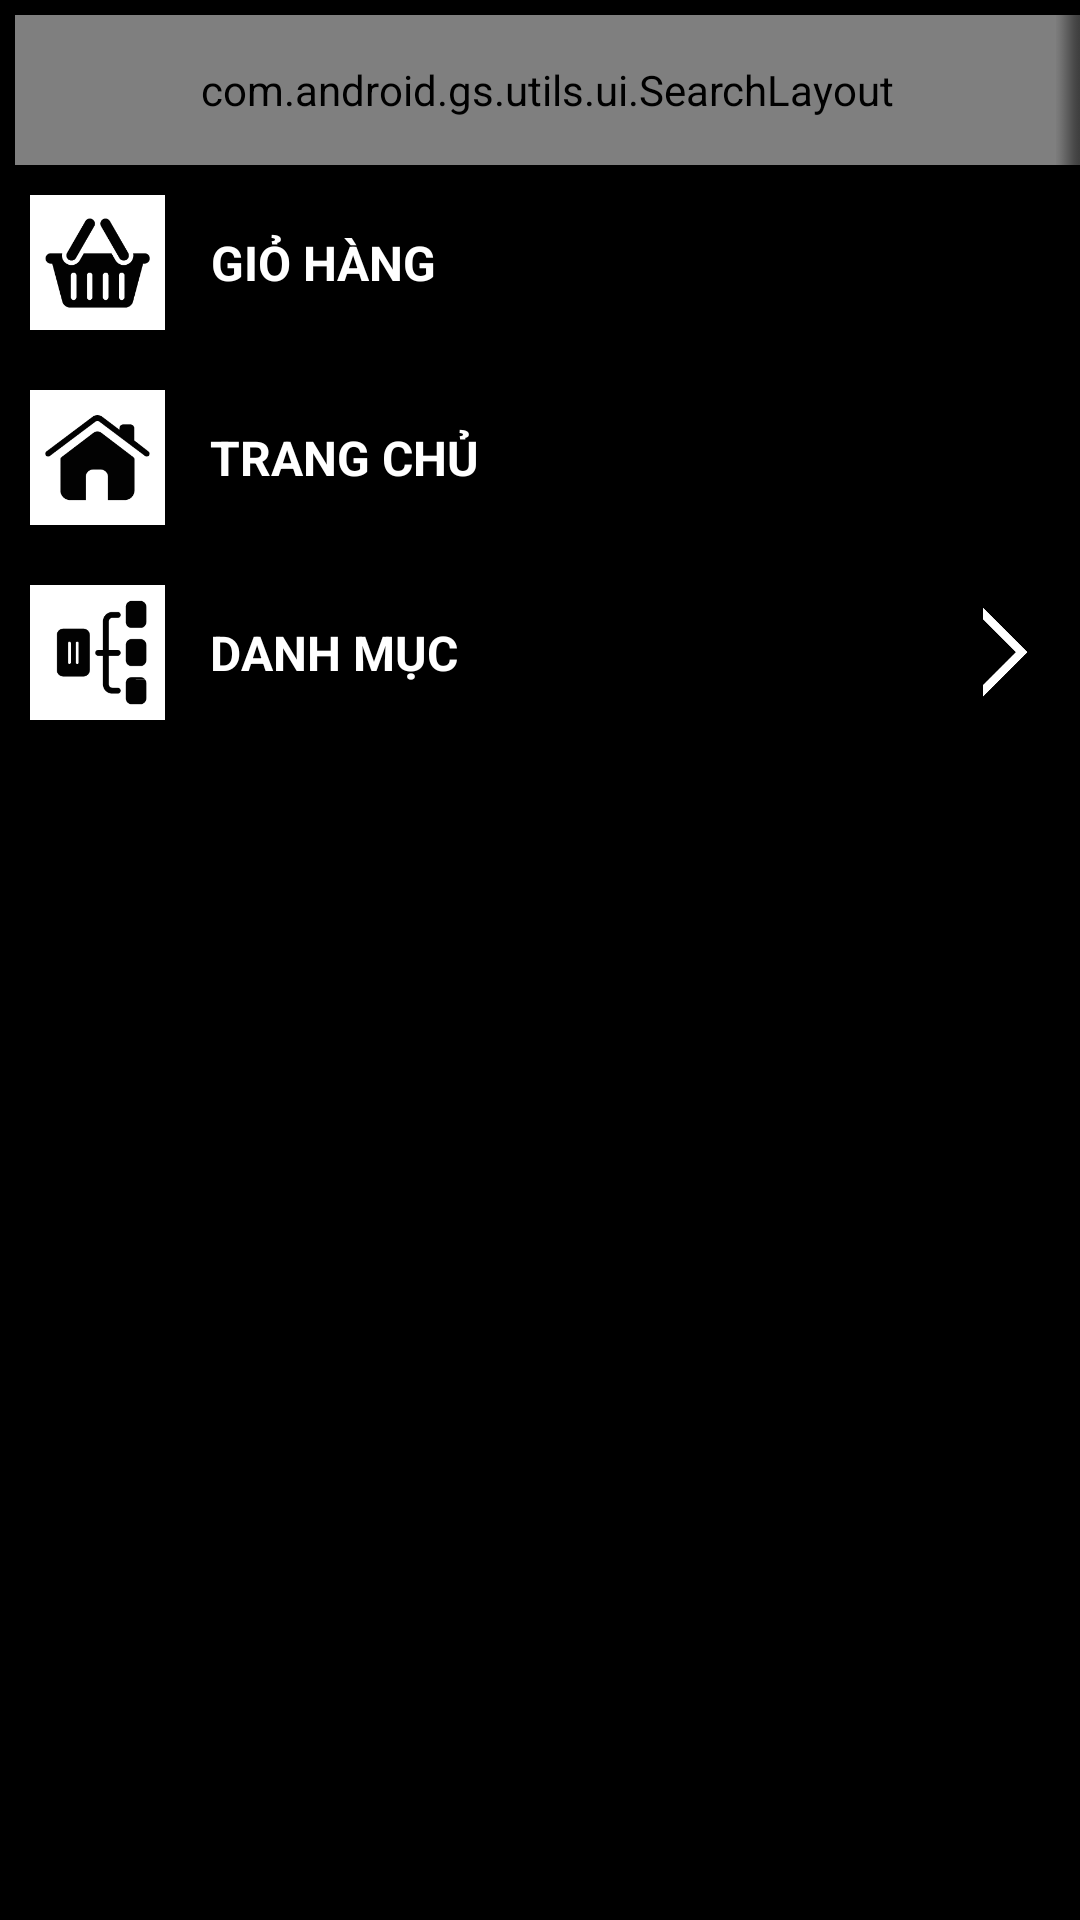

Icon bounding boxes for this 1080px x 1920px phone screenshot, format {"x1": x1, "y1": y1, "x2": x2, "y2": y2}:
cart: {"x1": 30, "y1": 195, "x2": 165, "y2": 330}
category: {"x1": 30, "y1": 585, "x2": 165, "y2": 720}
collapsed: {"x1": 983, "y1": 608, "x2": 1027, "y2": 697}
home: {"x1": 30, "y1": 390, "x2": 165, "y2": 525}
